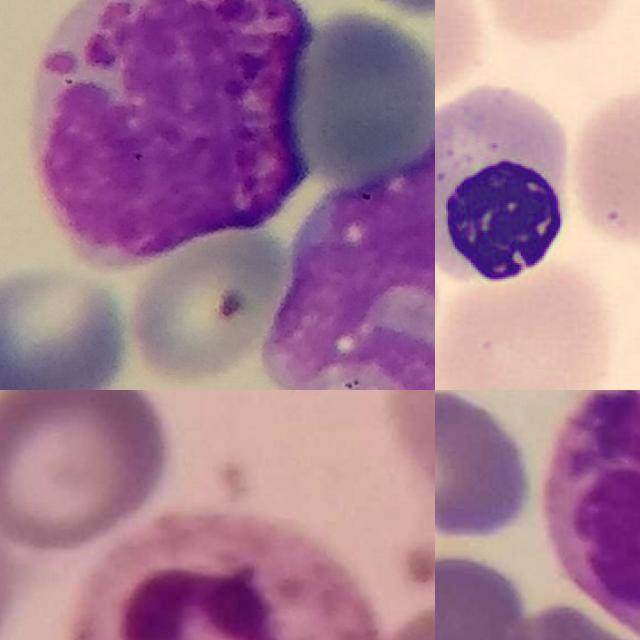Basophil: (23, 0, 312, 272)
Lymphocyte: (435, 76, 581, 293)
Monocyte: (265, 115, 435, 390), (549, 390, 640, 640)
Neutrophil: (72, 510, 385, 640)
RBC: (435, 247, 620, 390), (565, 79, 640, 249), (449, 0, 636, 47)
